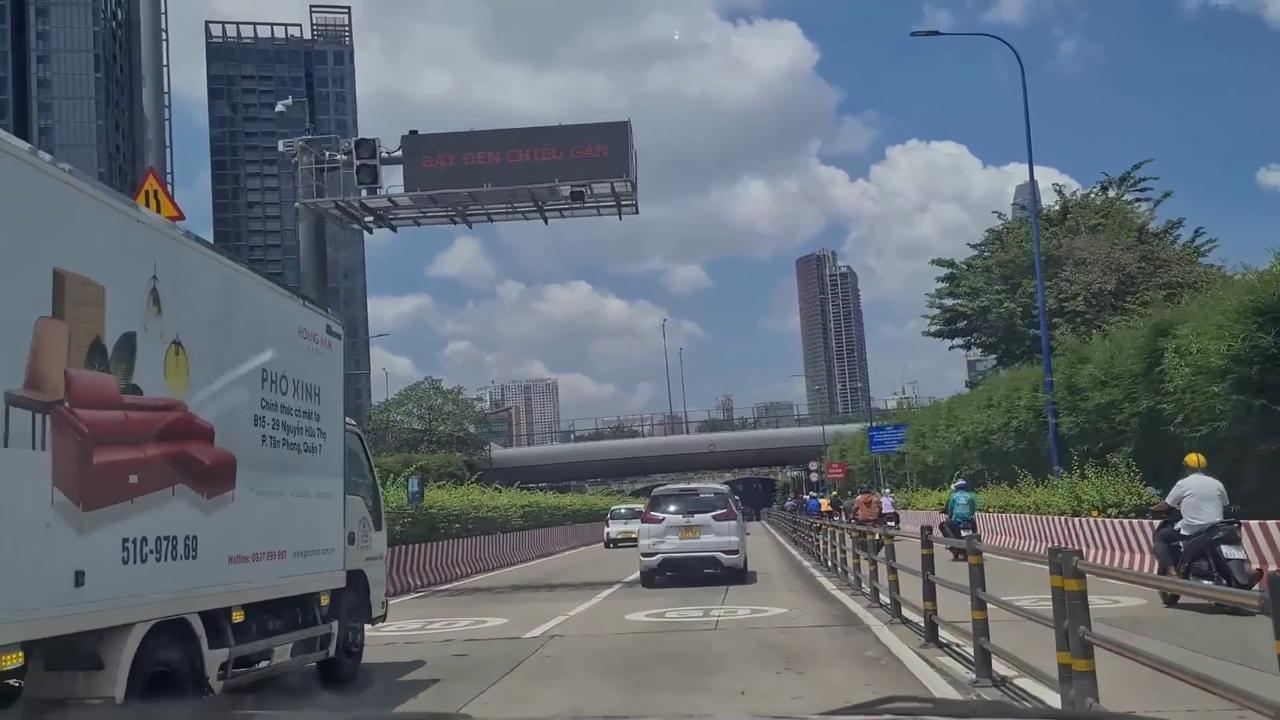Đuờng hẹp: (129, 164, 187, 222)
